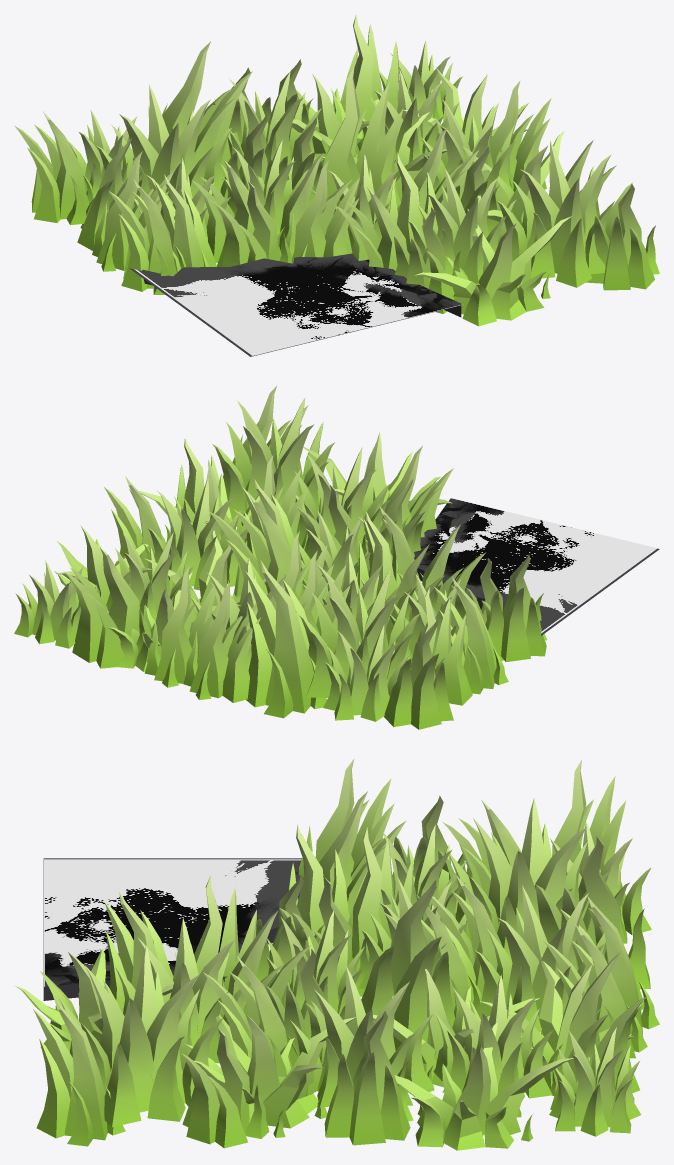
The model's file is Ust Sag Yesil.fbx.
The picture shows the model from 3 angles, top to bottom: view 1: azimuth 30°, elevation 25°; view 2: azimuth 150°, elevation 25°; view 3: azimuth 270°, elevation 25°; orthographic projection. The views are drawn at different scales.
Visible parts, largest first — view 1: ustsagyesil; view 2: ustsagyesil; view 3: ustsagyesil.
Boxes of the visible parts, box(x1,y1,x2,y2) form: ustsagyesil: box(14, 14, 659, 356); ustsagyesil: box(14, 386, 659, 729); ustsagyesil: box(14, 759, 659, 1150).
Bounding box in the file's own units: 215 × 63.12 × 214.
